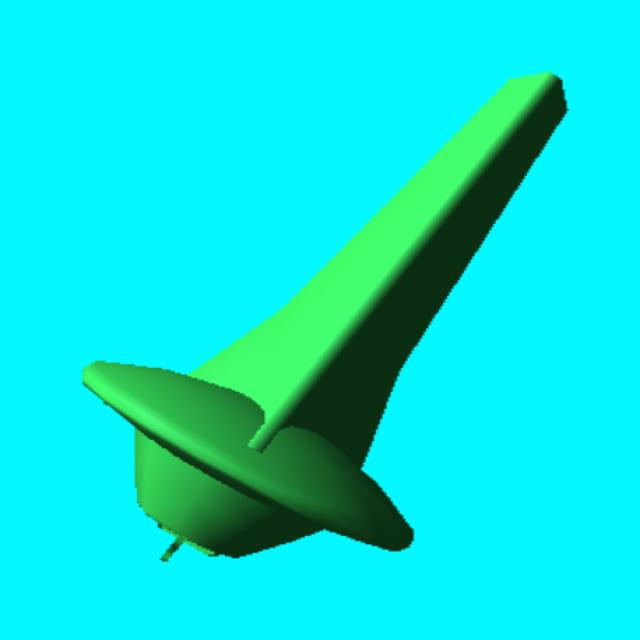GreenBuoy: (84, 75, 566, 556)
